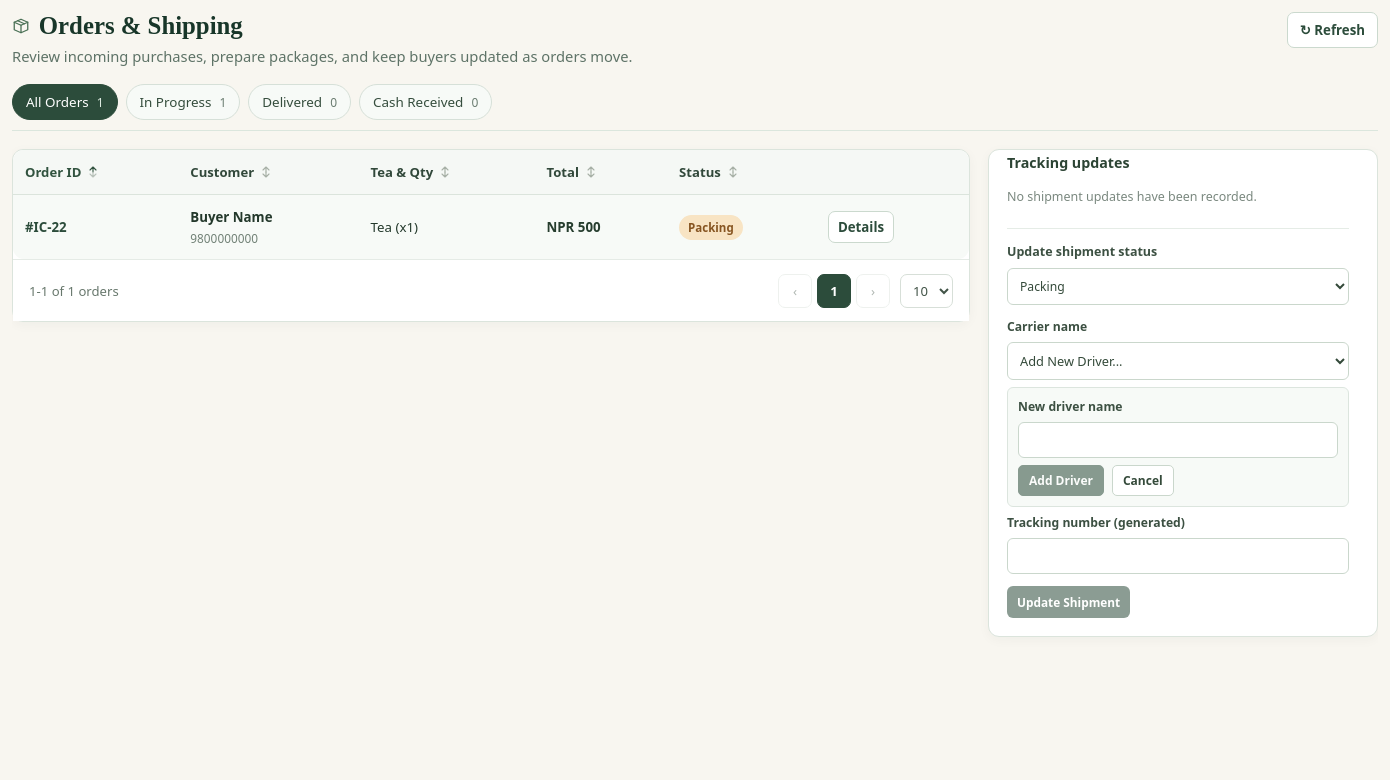
Test: validates new driver names before saving them
The image size is (1390, 780).
Earlier steps of the test are not shown.
(page scrolled)
Type "Driver #1" into the field labelled "New driver name" at (1178, 440), box [1018, 422, 1338, 458]
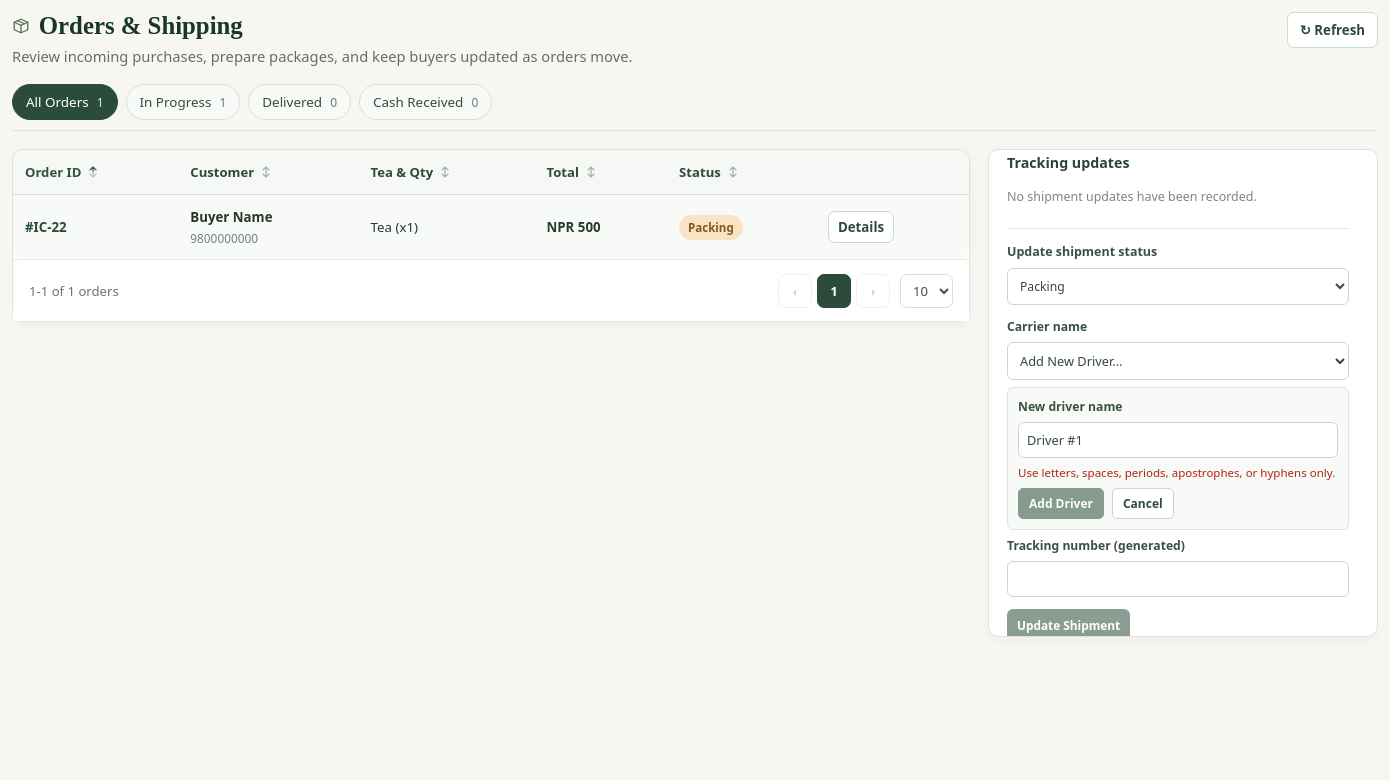
Expected: the button "Add Driver" is disabled, [1018, 488, 1104, 519]
Expected: the message reads "Use letters, spaces, periods, apostrophes, or hyphens only.", [1018, 465, 1335, 480]
